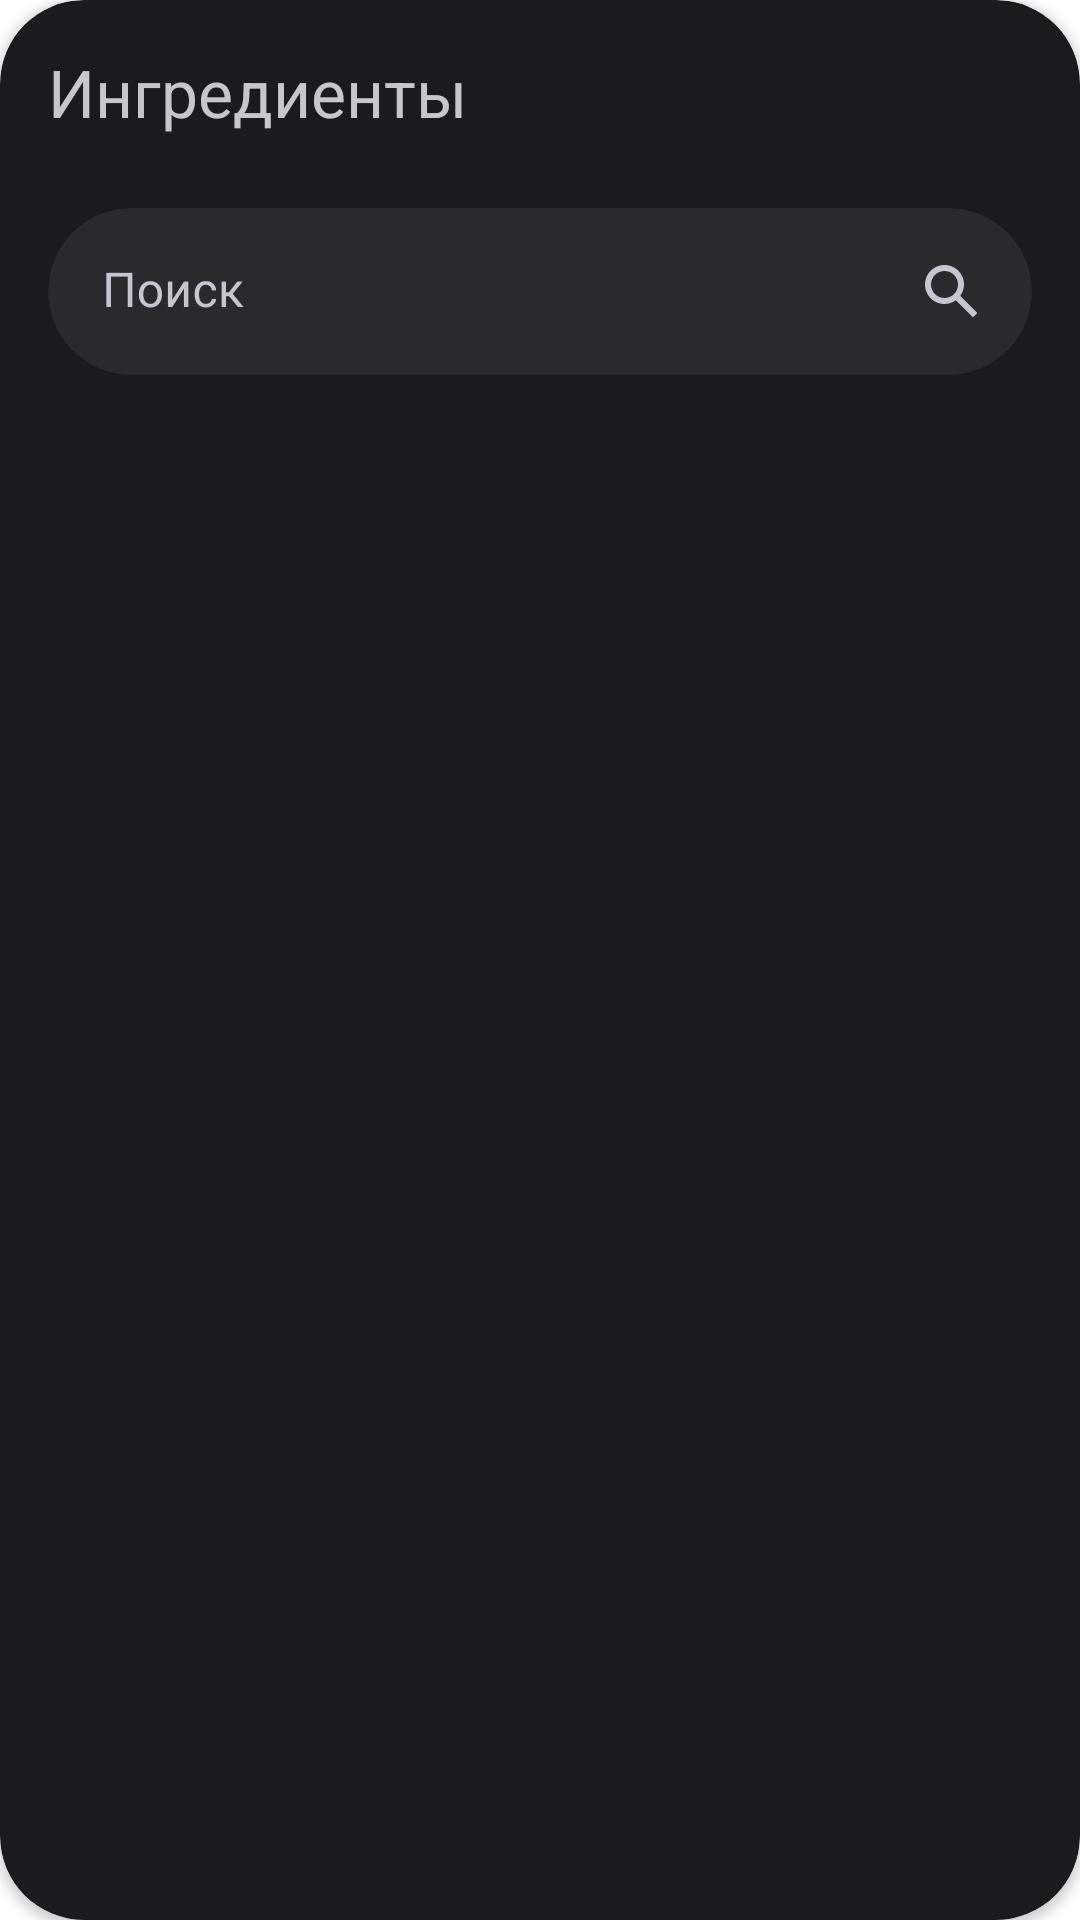

Screen size 1080 × 1920. Icon name, then its box in pixels as [x1, y1, x2, y2]:
search: [925, 265, 977, 317]
